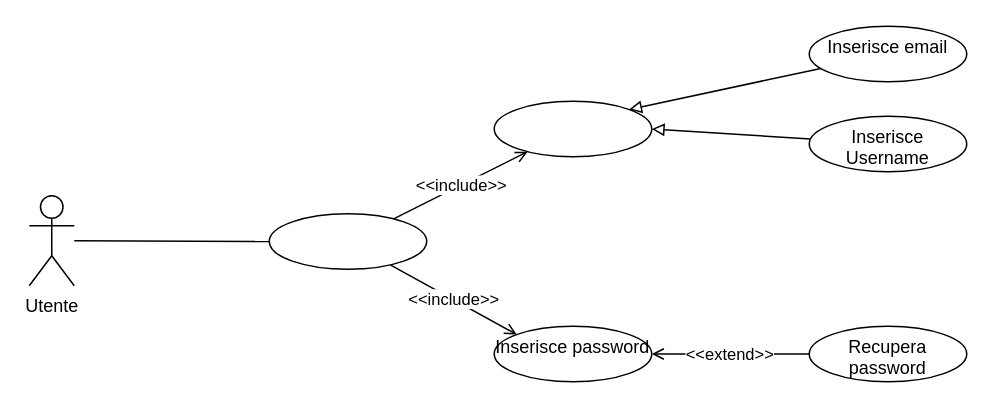
The diagram is 993 pixels wide and 408 high, and some of its shapes have lost their labels. The centre of each missing label's shape, as x and y in pixels:
"Effettua Login" goes at point 347,240.
"Inserisce chiave di riconoscimento" goes at point 572,128.
